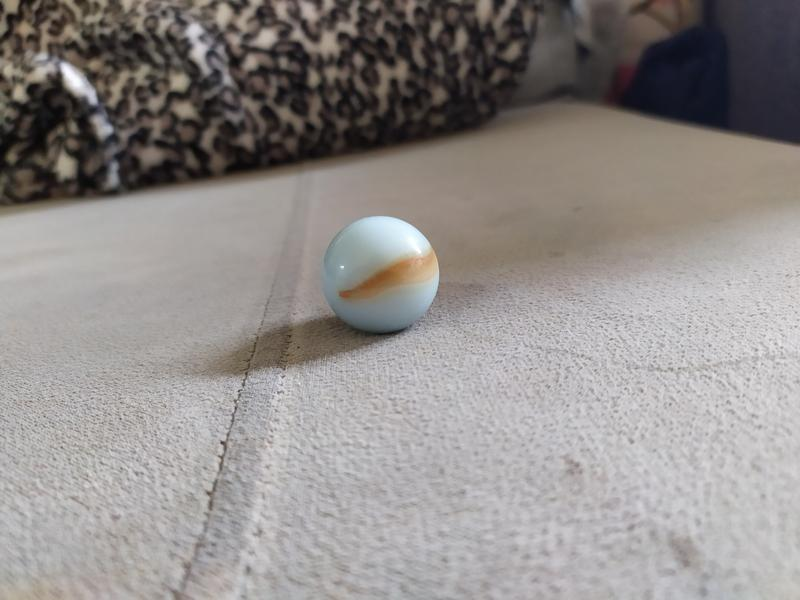Warning: (317, 213, 443, 337)
